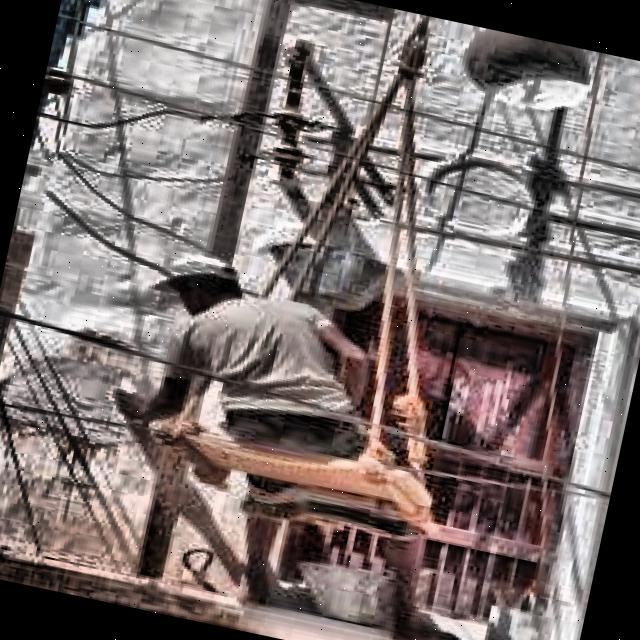helmet: (126, 224, 261, 336)
